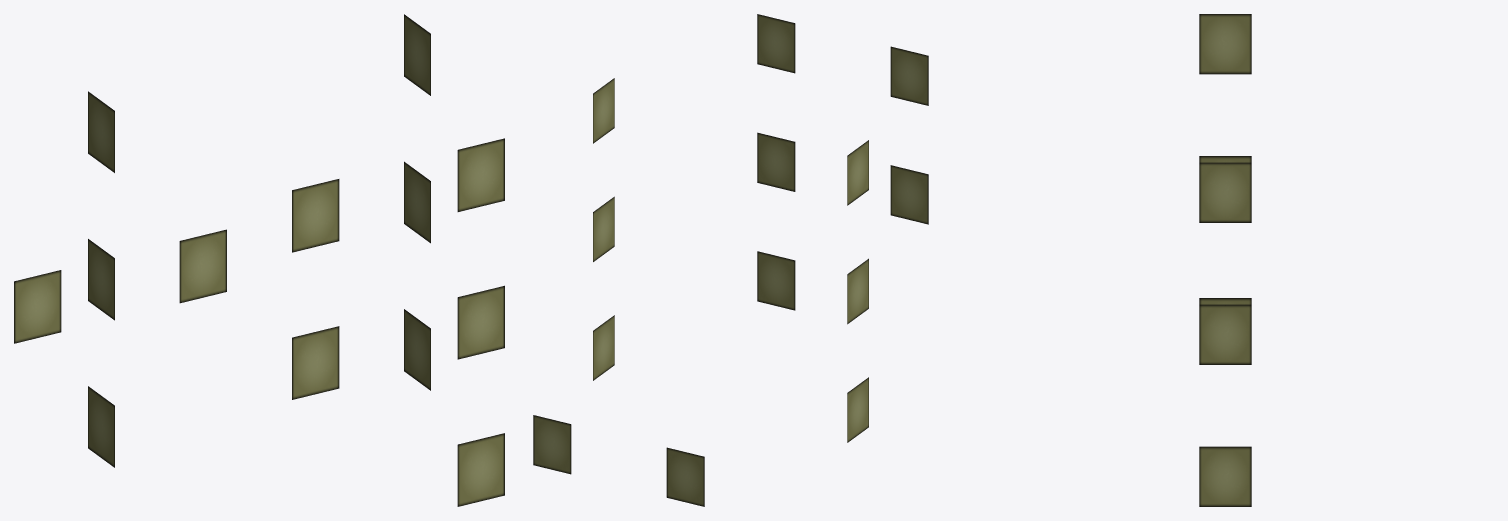
File: house_12.FBX
The picture shows the model from 3 angles, left to right: view 1: azimuth 30°, elevation 25°; view 2: azimuth 150°, elevation 25°; view 3: azimuth 270°, elevation 25°; orthographic projection. The views are drawn at different scales.
Parts seen in each view (by area): view 1: house_12_windows; view 2: house_12_windows; view 3: house_12_windows.
Part boxes in pixels (<box>): house_12_windows: <box>14,14,504,506</box>; house_12_windows: <box>533,14,928,506</box>; house_12_windows: <box>1199,14,1251,506</box>.
Bounding box in the file's own units: 76.29 × 82.4 × 116.
